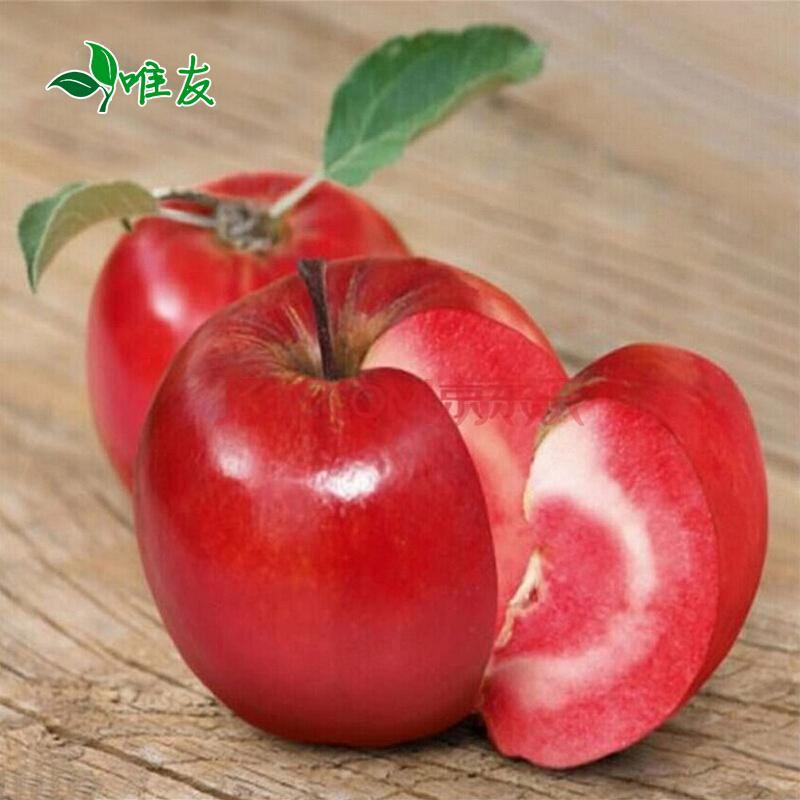apple: (130, 257, 774, 775), (83, 170, 407, 501)
